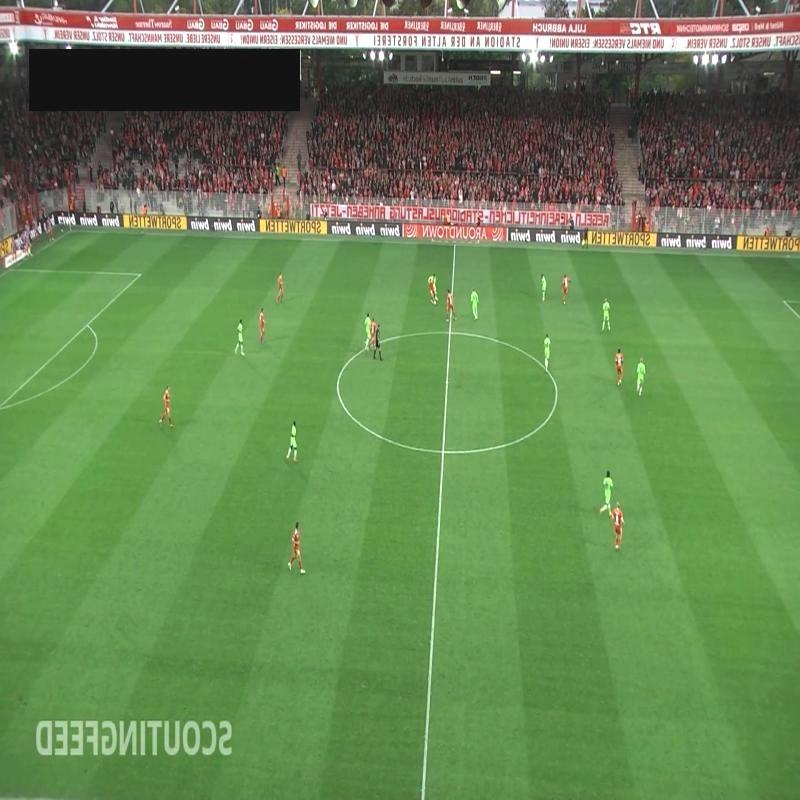1: (64, 224, 78, 238)
10: (79, 319, 93, 333)
13: (448, 237, 462, 250)
14: (442, 327, 457, 341)
15: (436, 446, 450, 460)
16: (370, 3, 384, 18)
2: (0, 263, 15, 277)
9: (775, 292, 793, 310), (133, 266, 147, 280)
c: (328, 374, 347, 391), (550, 387, 564, 401)
